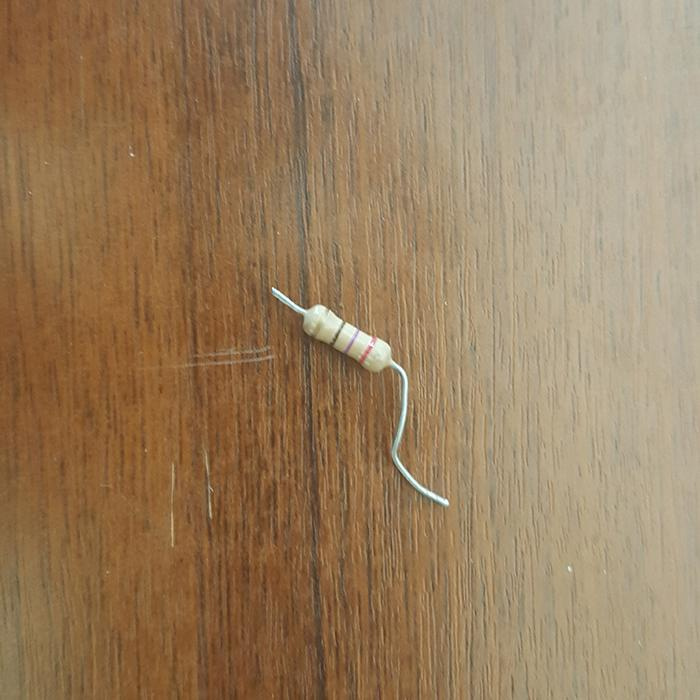resistor: (298, 302, 393, 373)
